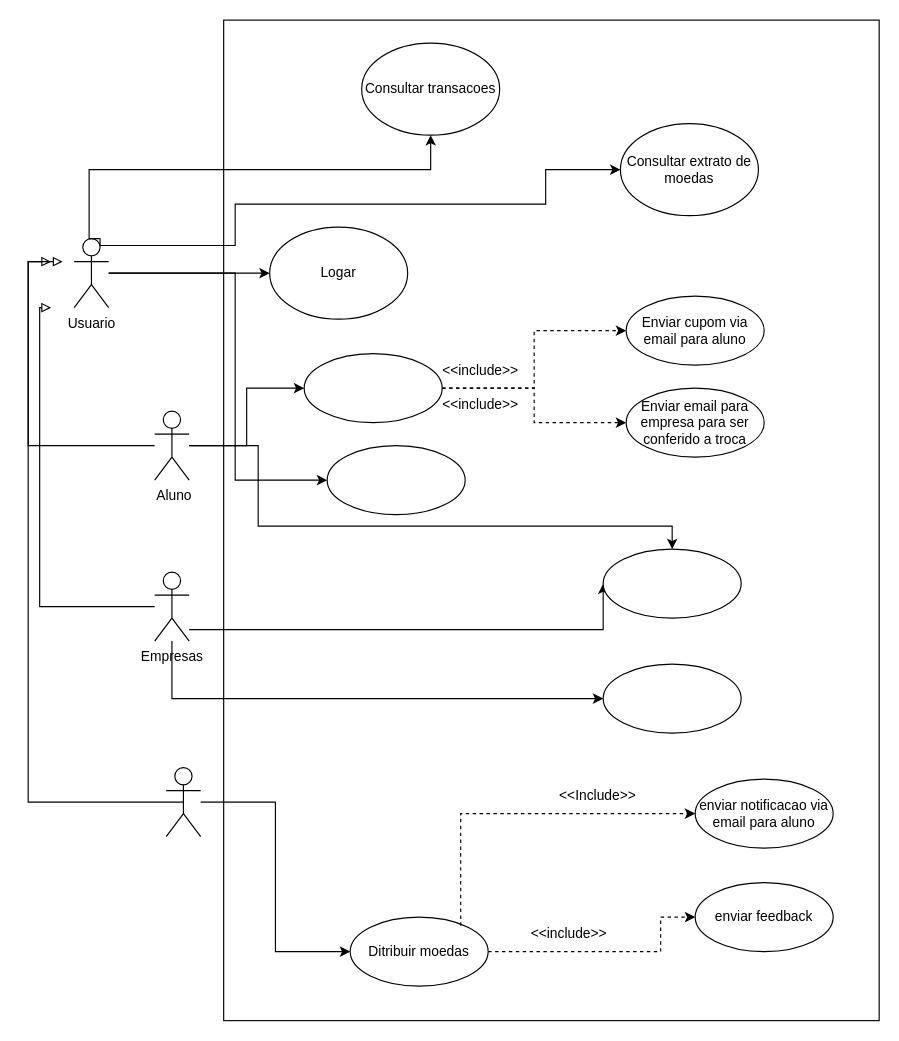
Some shapes in this 899 by 1041 pixel diagram are drawn without their labels. Here are the shapes that lost their labels. From the top down, the box of each, then its label:
(303, 352, 442, 423): trocar moedas por vantagens
(326, 444, 465, 515): Cadastrar no sistema
(602, 548, 741, 618): Conferir trocas
(602, 663, 741, 733): Registrar recompensas
(165, 766, 201, 837): Professor
